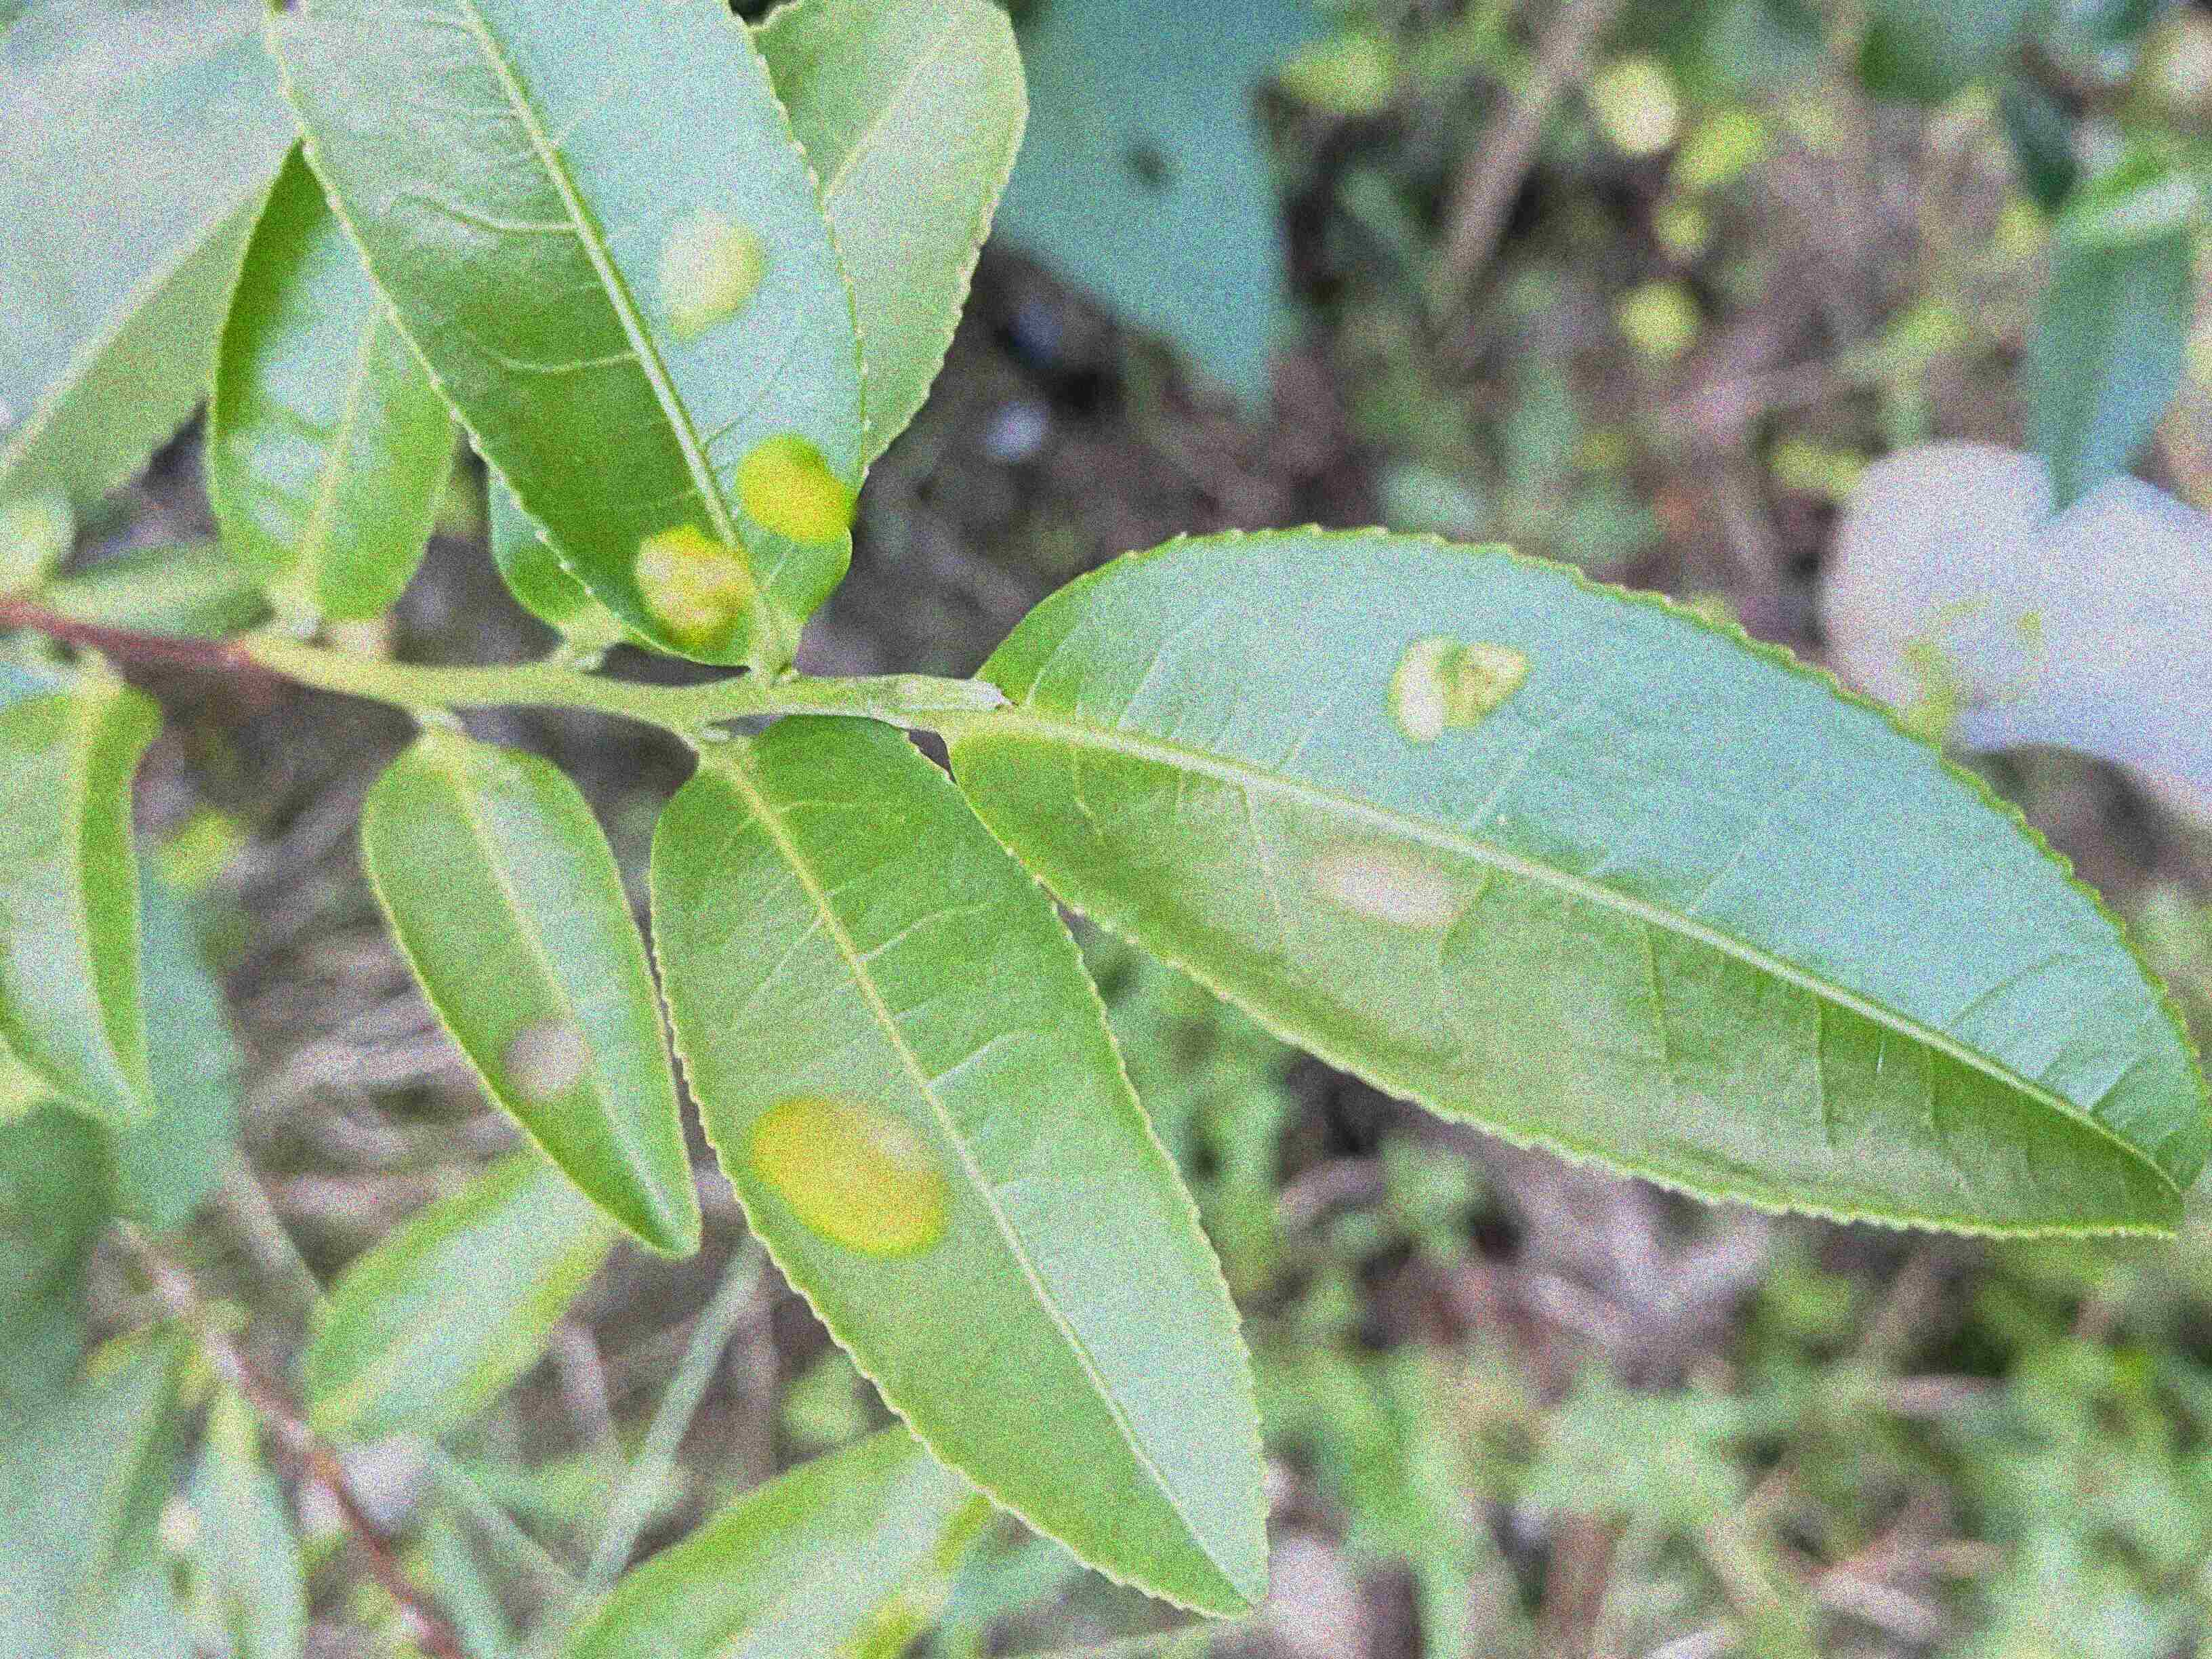chabing_high: (954, 521, 2210, 1241), (268, 0, 871, 666)
chabing_low: (646, 714, 1271, 1621), (359, 735, 704, 1260)
